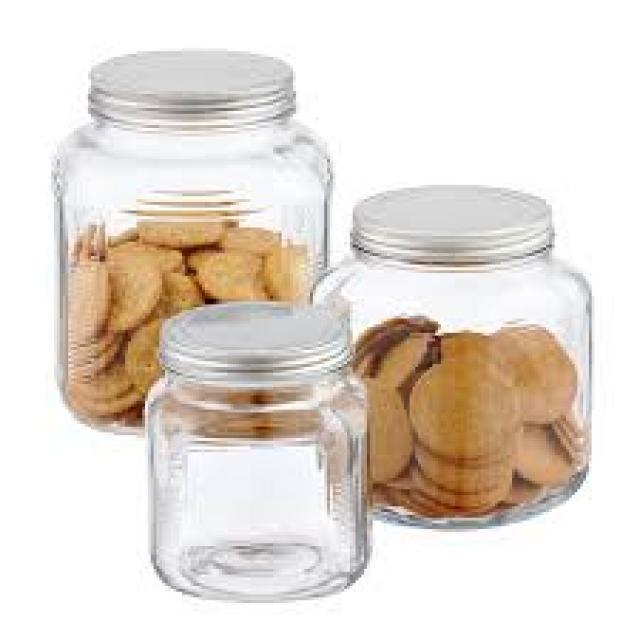organic waste: (404, 356, 518, 455), (484, 316, 572, 415), (364, 369, 413, 484), (407, 432, 503, 487), (503, 415, 578, 484), (404, 469, 512, 509), (256, 236, 324, 293), (352, 313, 427, 364), (102, 259, 154, 330), (185, 250, 264, 296), (131, 202, 233, 236), (367, 330, 435, 378), (66, 256, 106, 333), (120, 316, 160, 390), (65, 361, 131, 404), (102, 239, 185, 270), (142, 270, 208, 307), (65, 381, 134, 415), (213, 225, 276, 259), (66, 336, 116, 378), (378, 461, 432, 498), (540, 404, 580, 449), (498, 466, 549, 501), (435, 321, 489, 353), (66, 333, 122, 361), (68, 225, 105, 256), (100, 222, 136, 242)
